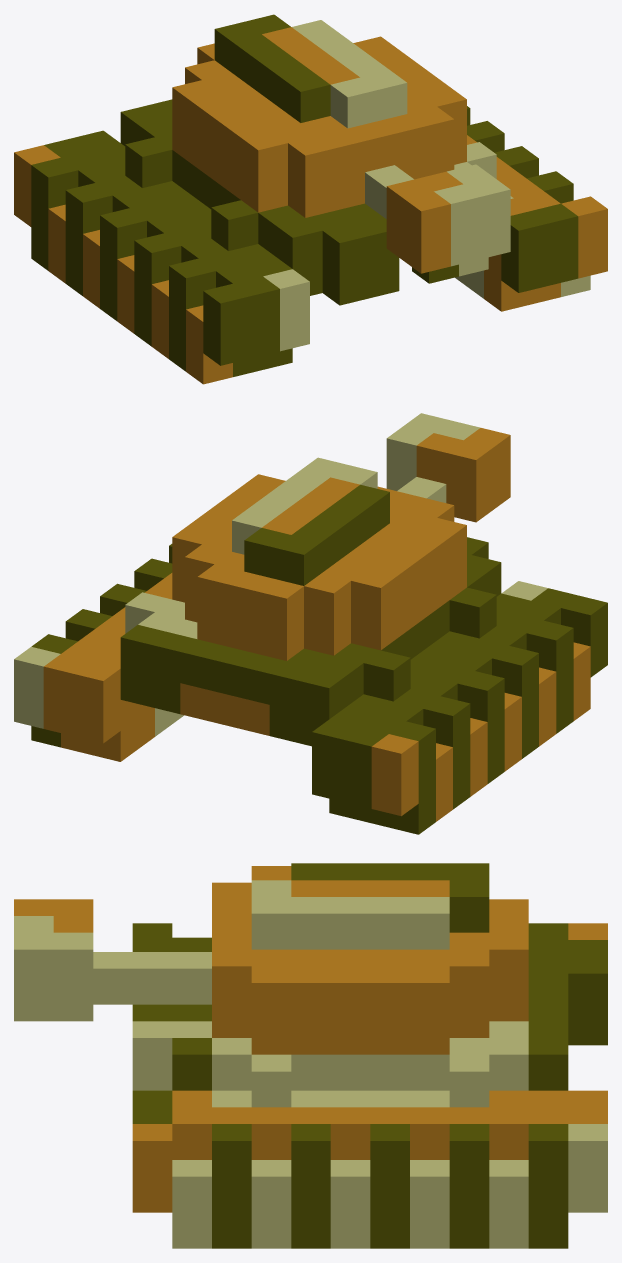
File: armored_yellow_tank.glb
The picture shows the model from 3 angles, top to bottom: view 1: azimuth 30°, elevation 25°; view 2: azimuth 150°, elevation 25°; view 3: azimuth 270°, elevation 25°; orthographic projection. The views are drawn at different scales.
Visible parts, largest first — view 1: Object_2.017; view 2: Object_2.017; view 3: Object_2.017.
Boxes of the visible parts, x1,y1,x2,y2 form: Object_2.017: (14,14,607,384); Object_2.017: (14,413,607,834); Object_2.017: (14,863,607,1248).
Size of the model in its own units: 13 by 7 by 15.
Materials: 1 (1 with a texture image).
